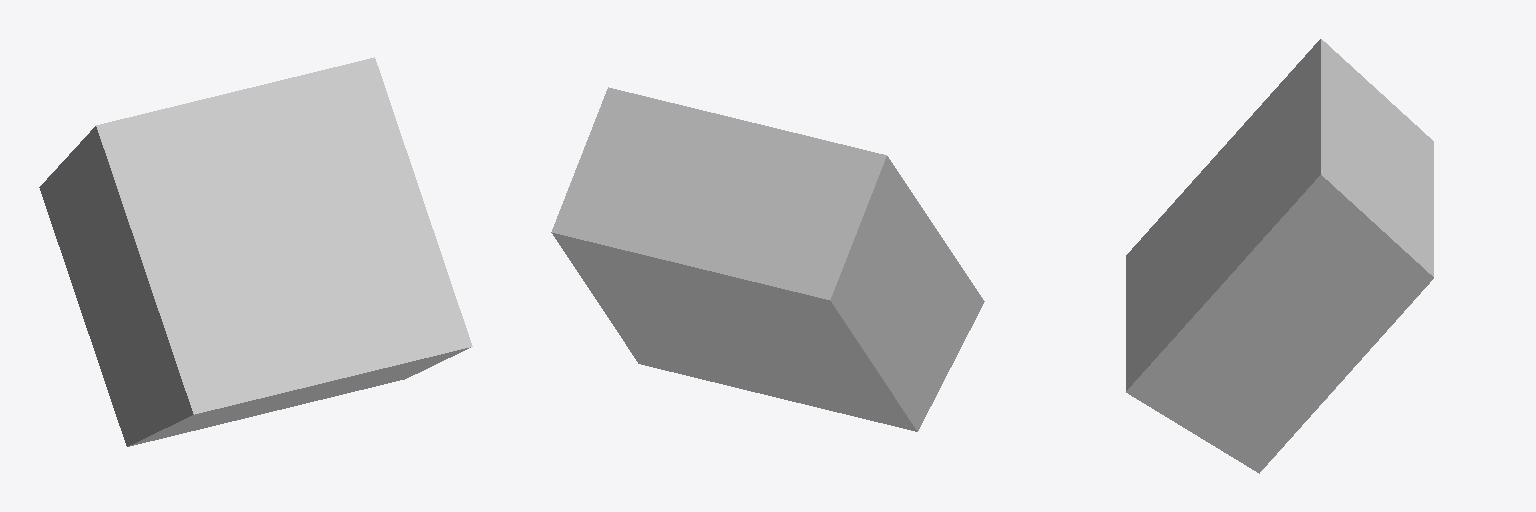
The model's file is demon_portal_stone5.obj.
3 renders of one model, left to right at view 1: azimuth 30°, elevation 25°; view 2: azimuth 150°, elevation 25°; view 3: azimuth 270°, elevation 25°, orthographic.
Visible parts, largest first — view 1: Stone_5_Circle.012; view 2: Stone_5_Circle.012; view 3: Stone_5_Circle.012.
Part boxes in pixels (x1,y1,x2,y2): Stone_5_Circle.012: (39,57,472,446); Stone_5_Circle.012: (551,87,984,431); Stone_5_Circle.012: (1126,39,1433,473).
Bounding box in the file's own units: 0.25 × 0.2562 × 0.2396.